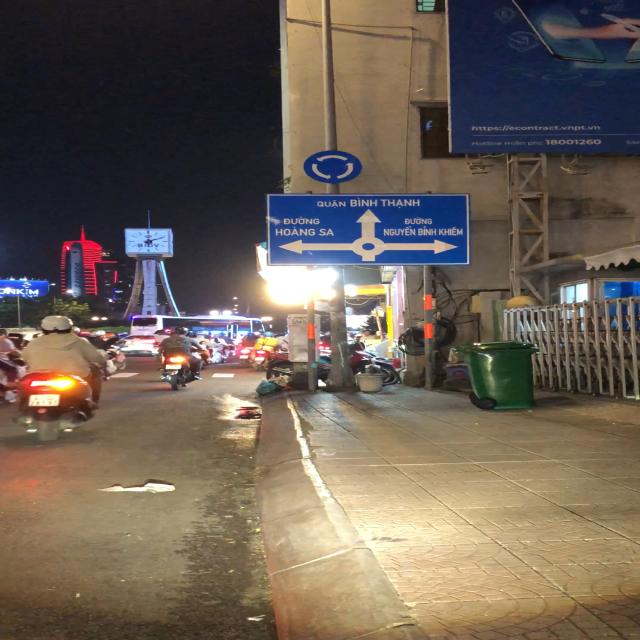Bien bao noi giao nhau chay theo vong xuyen: (303, 148, 365, 185)
